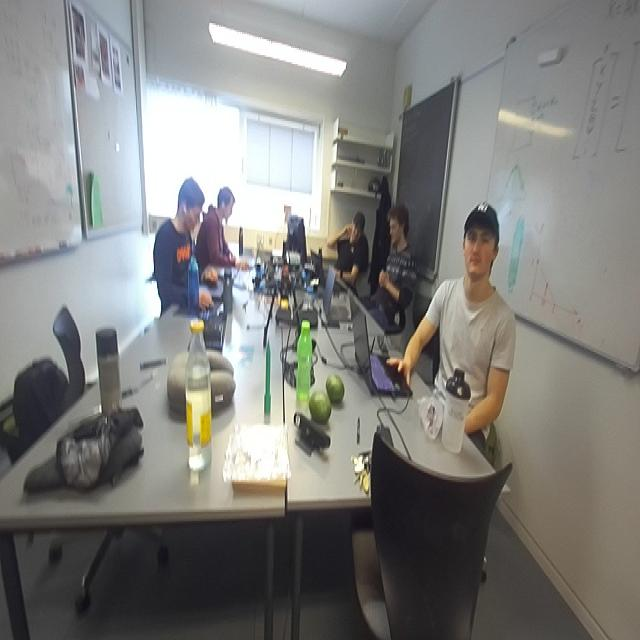probe: (264, 338, 272, 415)
